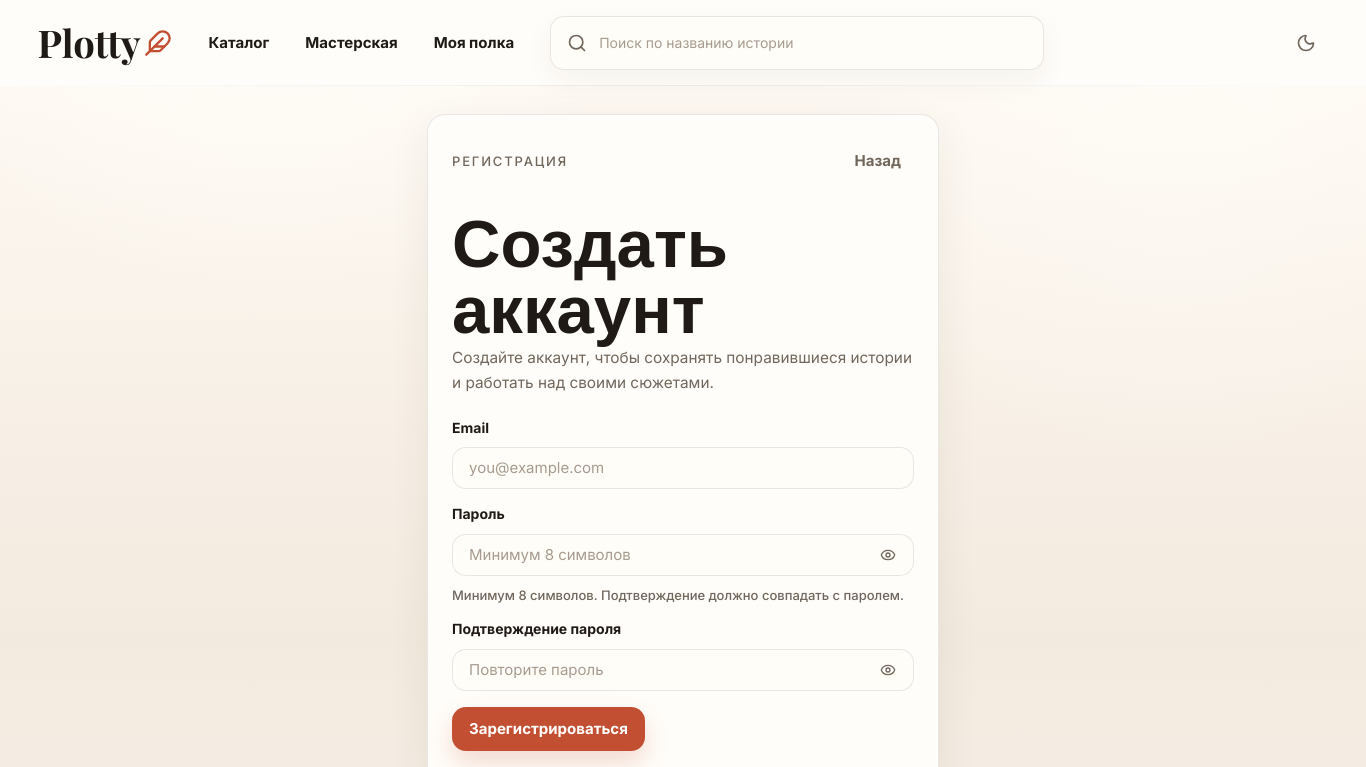
Test: AuthScreen › maps object register error codes even when the backend omits field names
Check: the heading "Создать аккаунт" is shown, box [452,194,728,350]
Type "writer@plotty.test" into the field labelled "Email" at (683, 468), box [452,447,914,489]
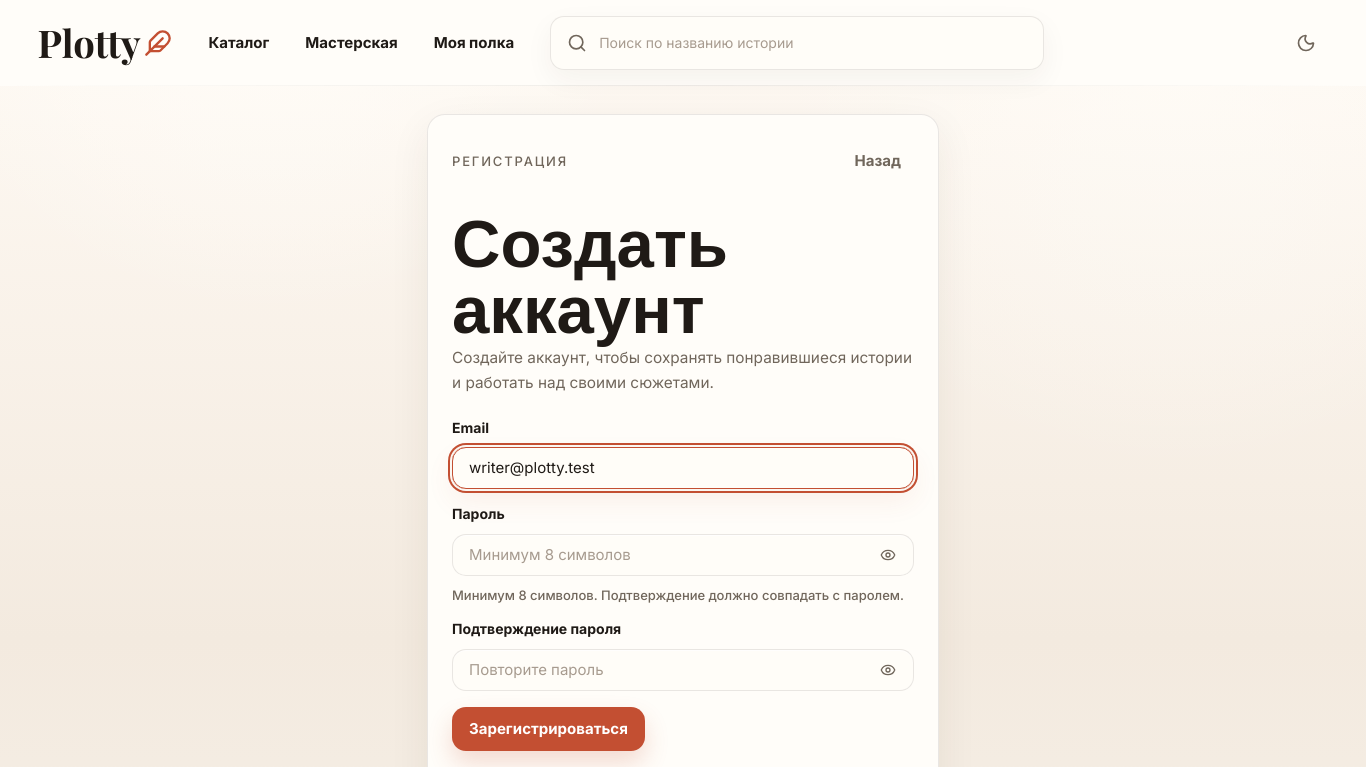
Type "password123" into the password field labelled "Пароль" at (683, 555), box [452,534,914,576]
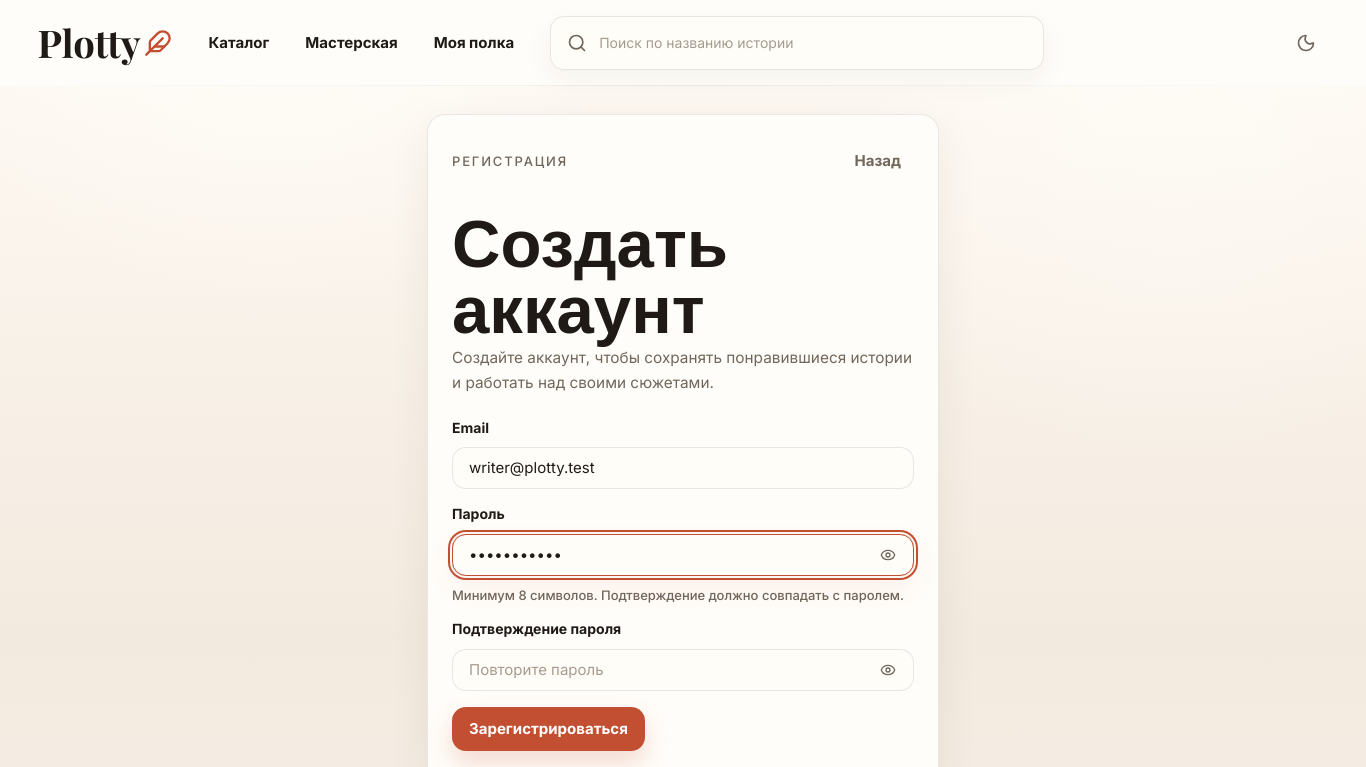
Type "password123" into the password field labelled "Подтверждение пароля" at (683, 670), box [452,649,914,691]
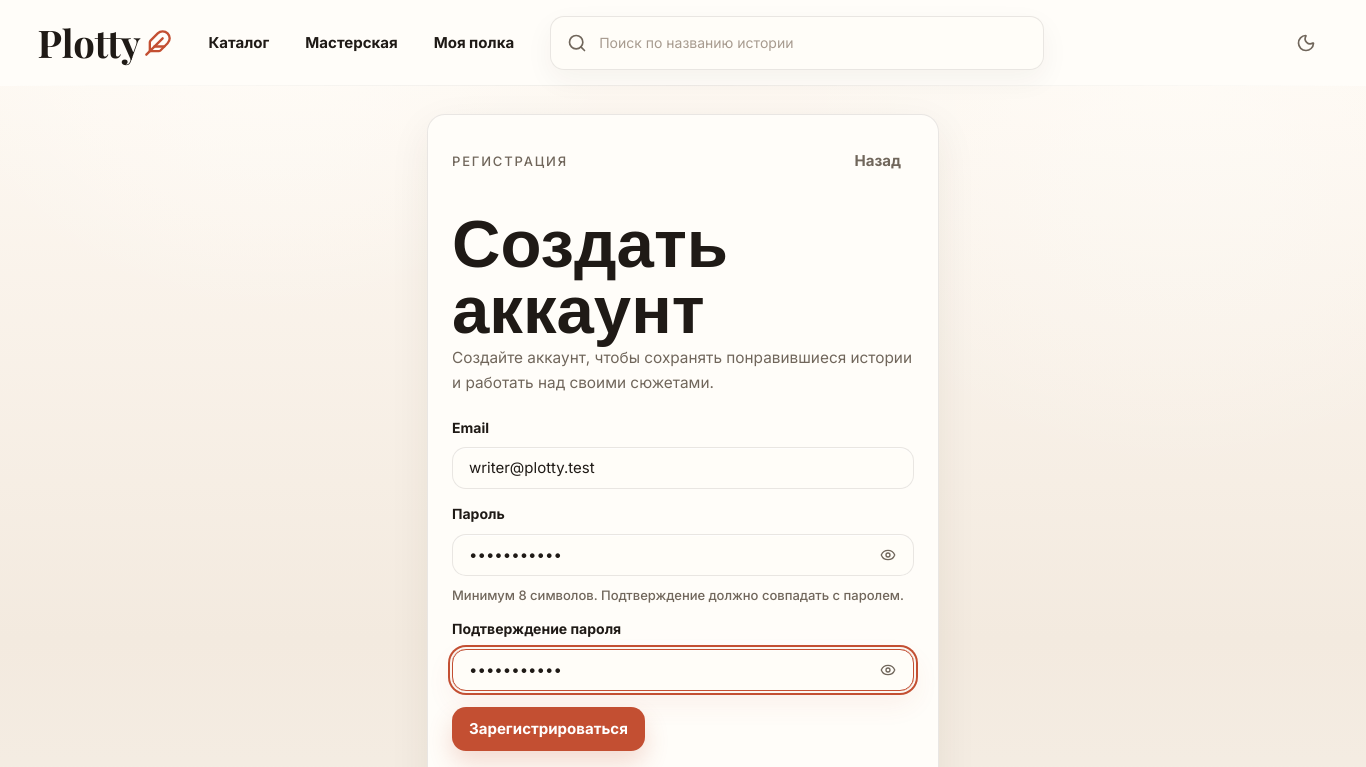
Click the button "Зарегистрироваться" at (548, 729), box [452,707,645,751]
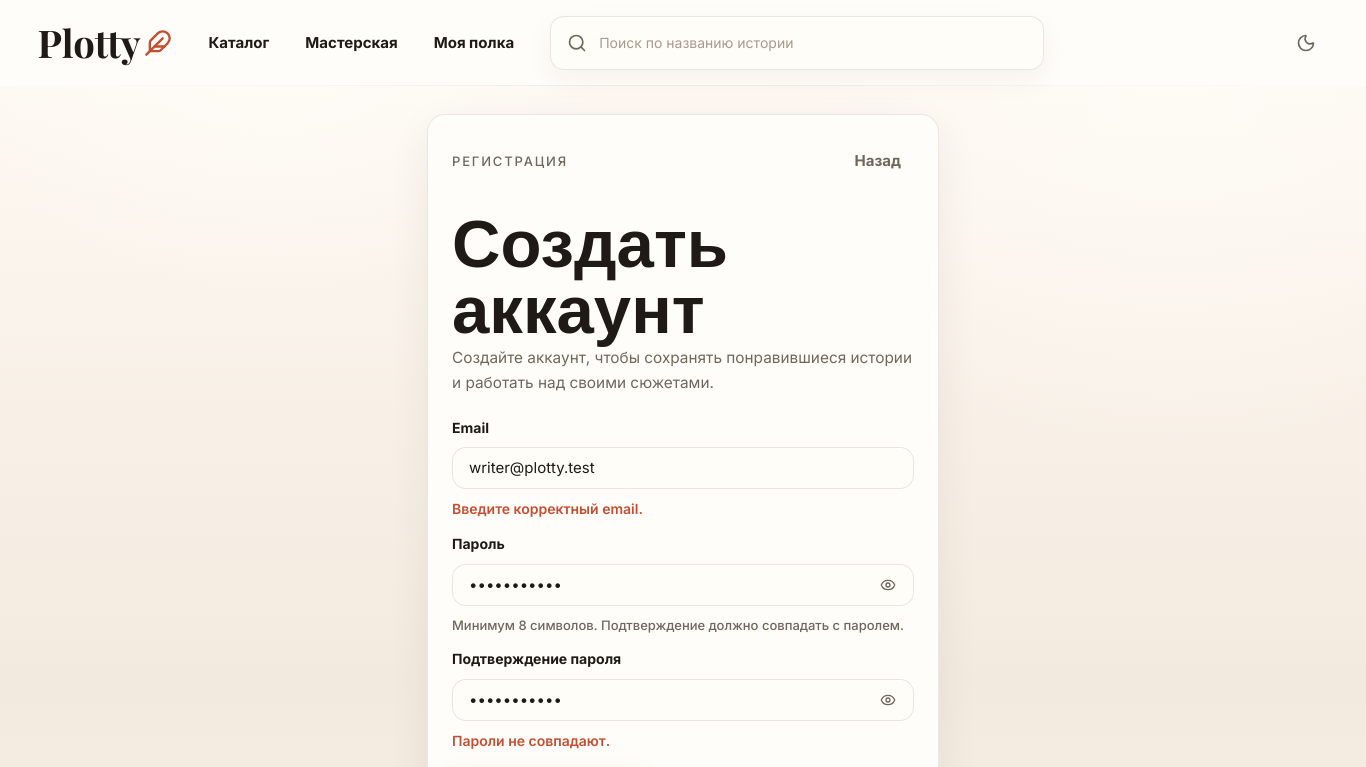
Check: the text "Введите корректный email." is shown, box [452,500,643,517]
Check: the text "Пароли не совпадают." is shown, box [452,732,610,749]
